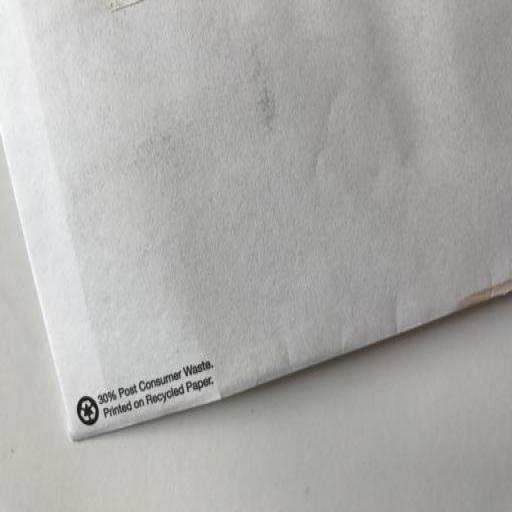paper: (2, 0, 512, 444)
